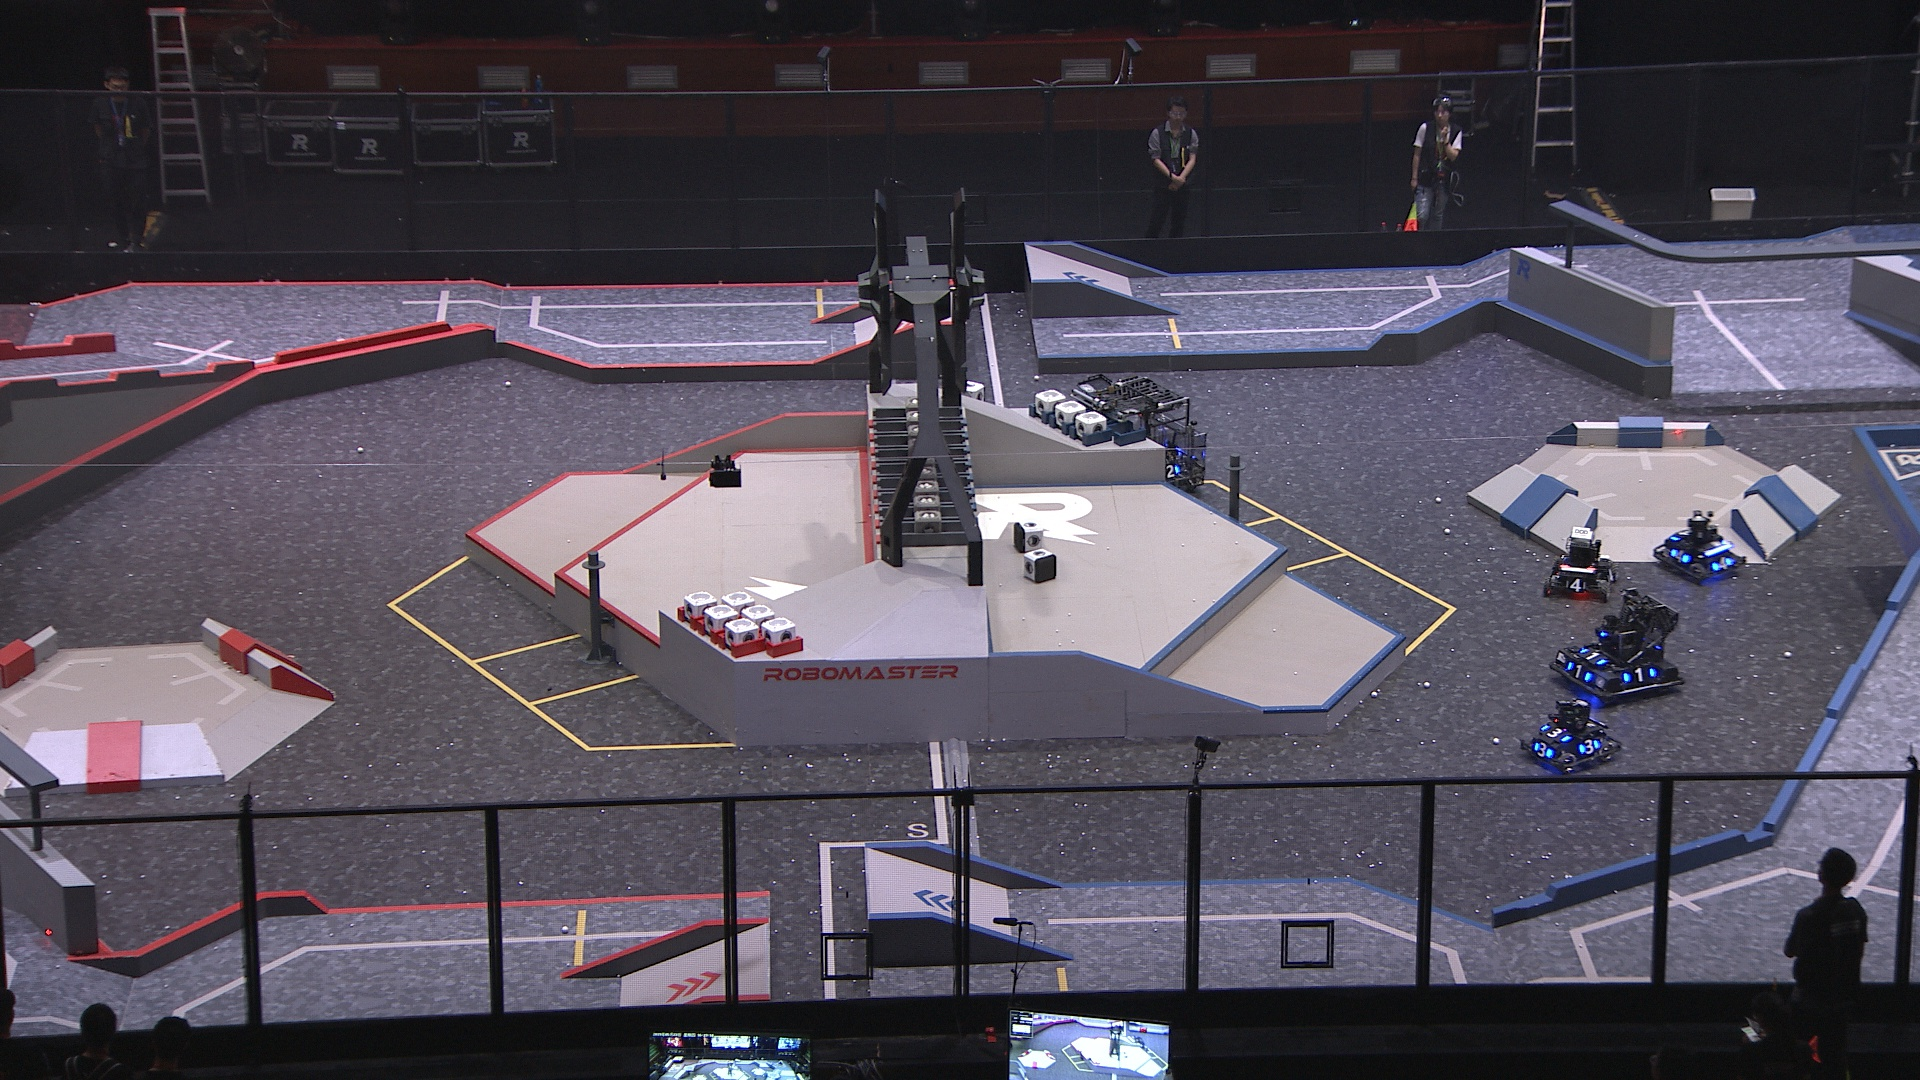armor: (1542, 723, 1572, 744), (1564, 659, 1589, 683), (1623, 665, 1656, 680), (1580, 647, 1604, 666), (1531, 742, 1556, 760), (1578, 736, 1600, 756), (1669, 546, 1688, 564), (1565, 578, 1585, 593), (1163, 462, 1182, 477), (1712, 556, 1731, 571), (1673, 529, 1691, 541), (1604, 566, 1617, 580)
car: (1072, 373, 1211, 495), (1547, 591, 1687, 698), (1516, 690, 1623, 771), (1652, 509, 1749, 580), (1544, 526, 1618, 600)
